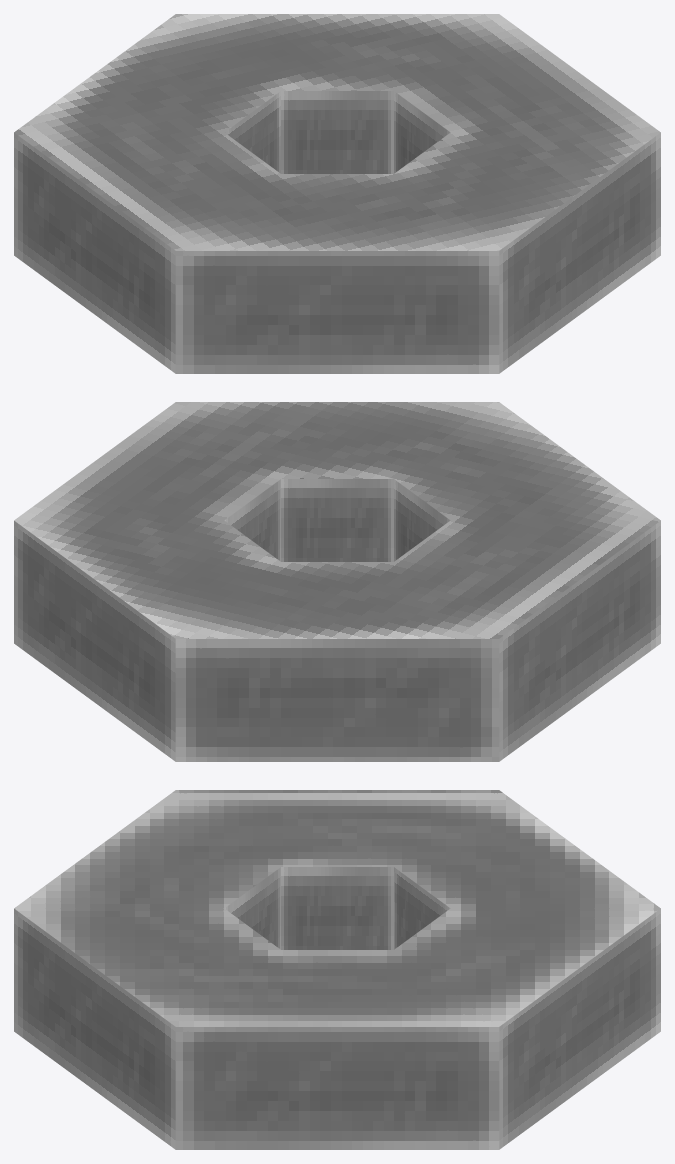
3 renders of one model, top to bottom at view 1: azimuth 30°, elevation 25°; view 2: azimuth 150°, elevation 25°; view 3: azimuth 270°, elevation 25°, orthographic.
Visible parts, largest first — view 1: gray_nut; view 2: gray_nut; view 3: gray_nut.
Part boxes in pixels (left/top/right/bottom): gray_nut: left=14, top=14, right=660, bottom=373; gray_nut: left=14, top=402, right=660, bottom=761; gray_nut: left=14, top=790, right=660, bottom=1149.
Size of the model in its own units: 52.82 by 12.8 by 60.99.
1 material, 1 textured.
